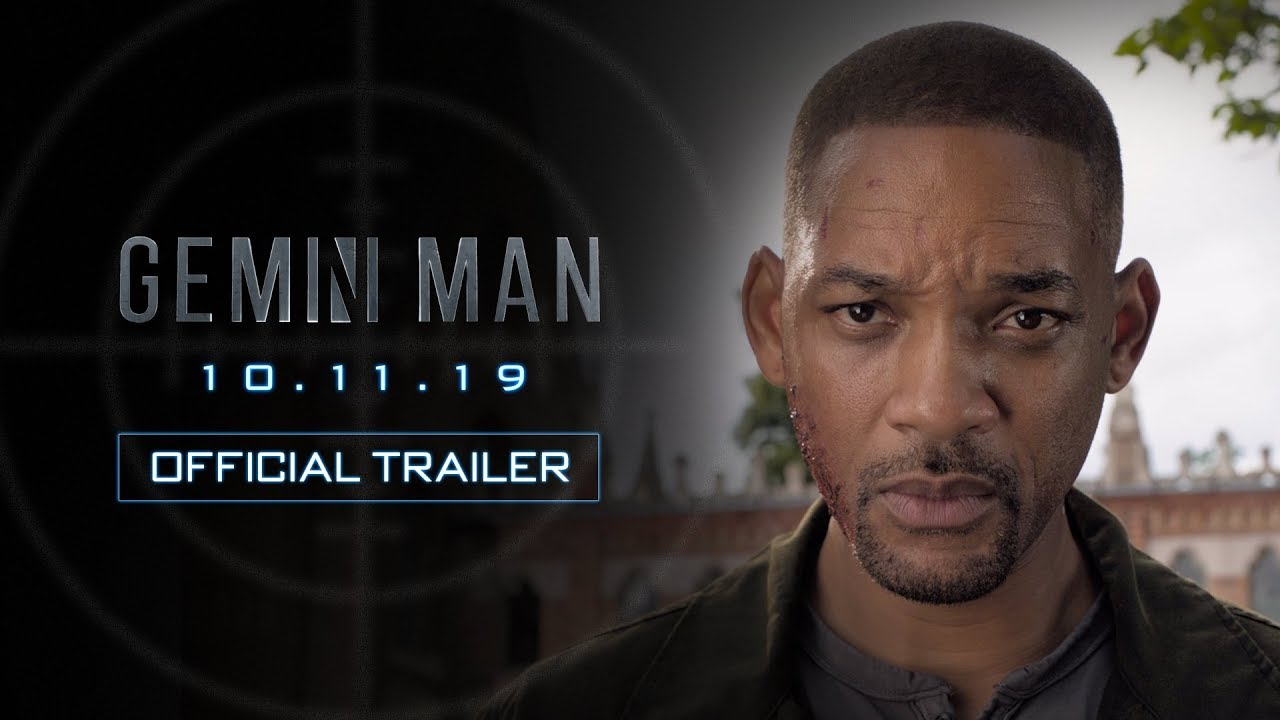Without Helmet: (733, 26, 1162, 619)
